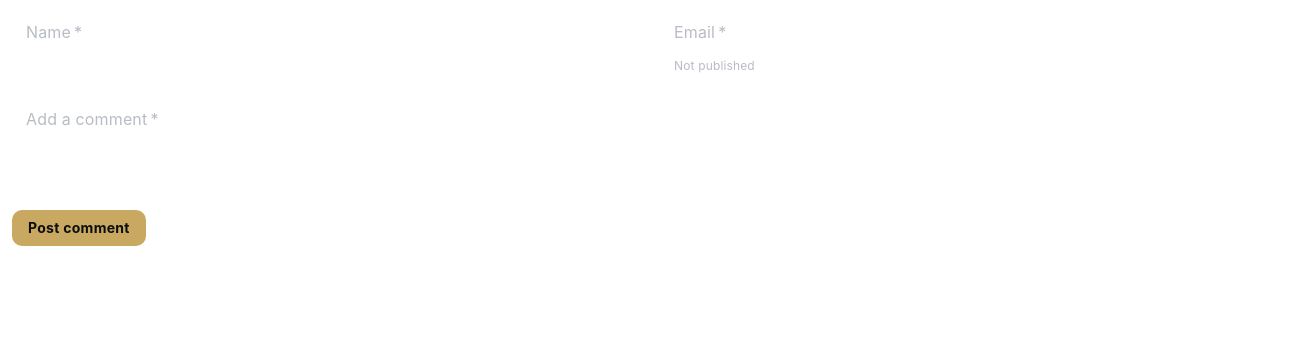
Test: CommentForm (anonymous visitor) › rejects an invalid guest email
Type "Great post!" into the text box labelled "Add a comment *" at (652,143), box [26,108,1278,177]
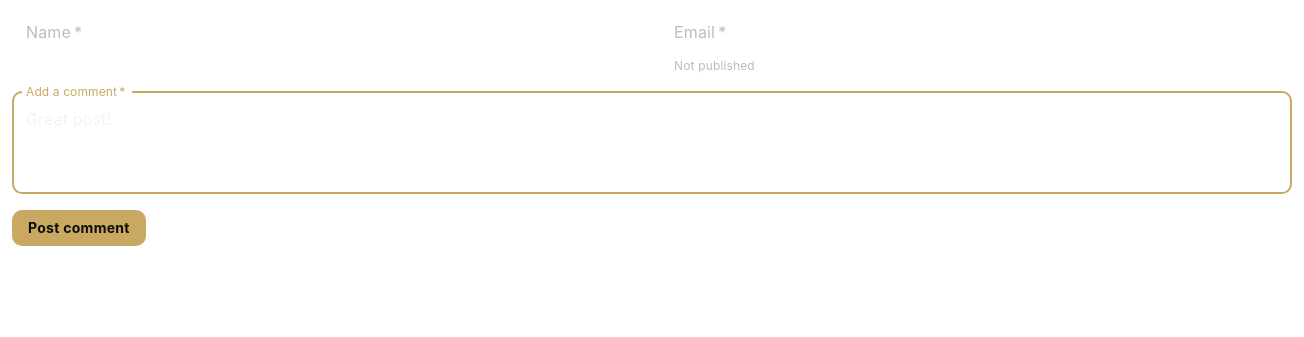
Type "Val" into the field labelled "Name *" at (328,32), box [12,12,644,52]
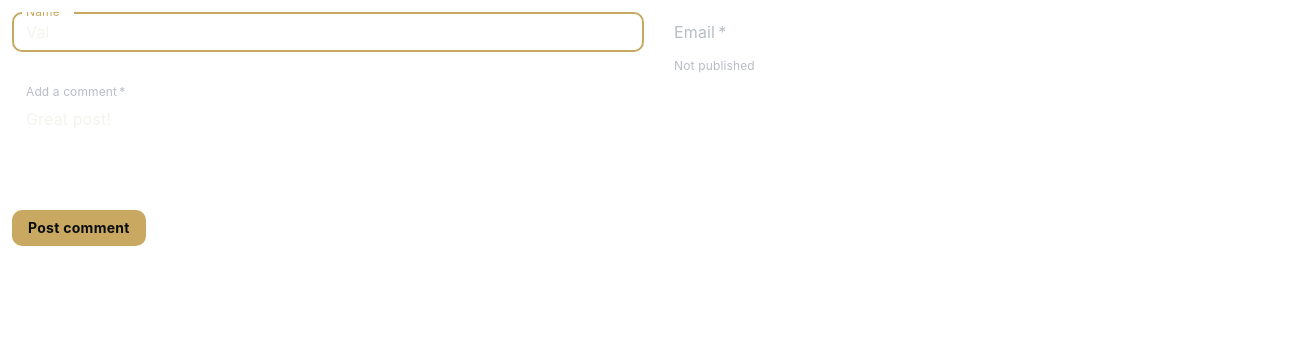
Type "not-an-email" into the field labelled "Email *" at (976,32), box [660,12,1292,52]
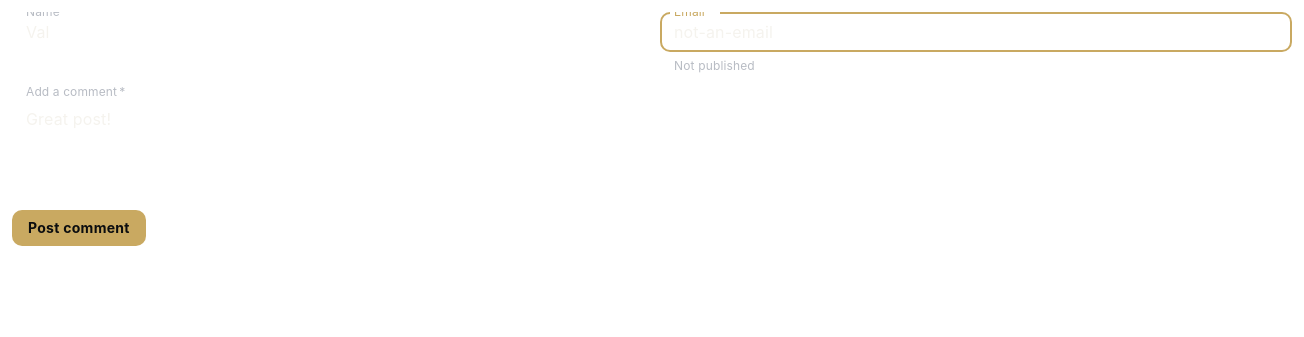
Click the button "Post comment" at (79,228), box [12,210,146,246]
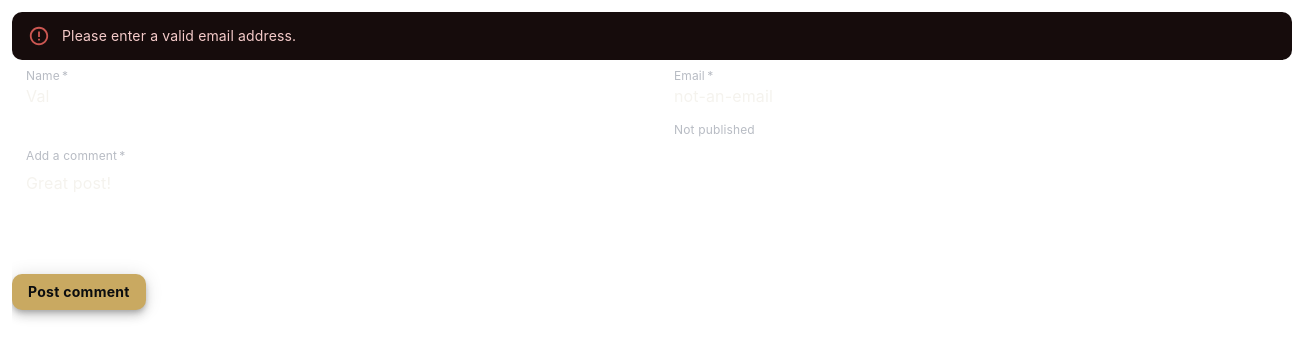
Now the message shows "valid email", box [62,27,296,44]
